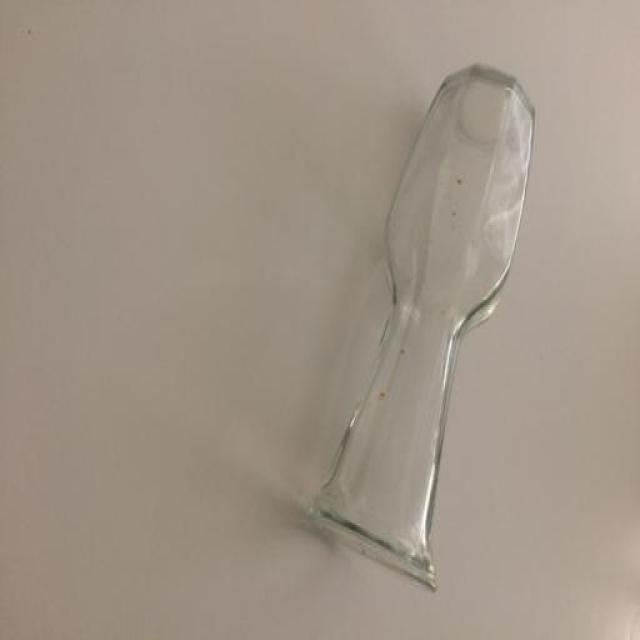glass: (304, 62, 536, 592)
